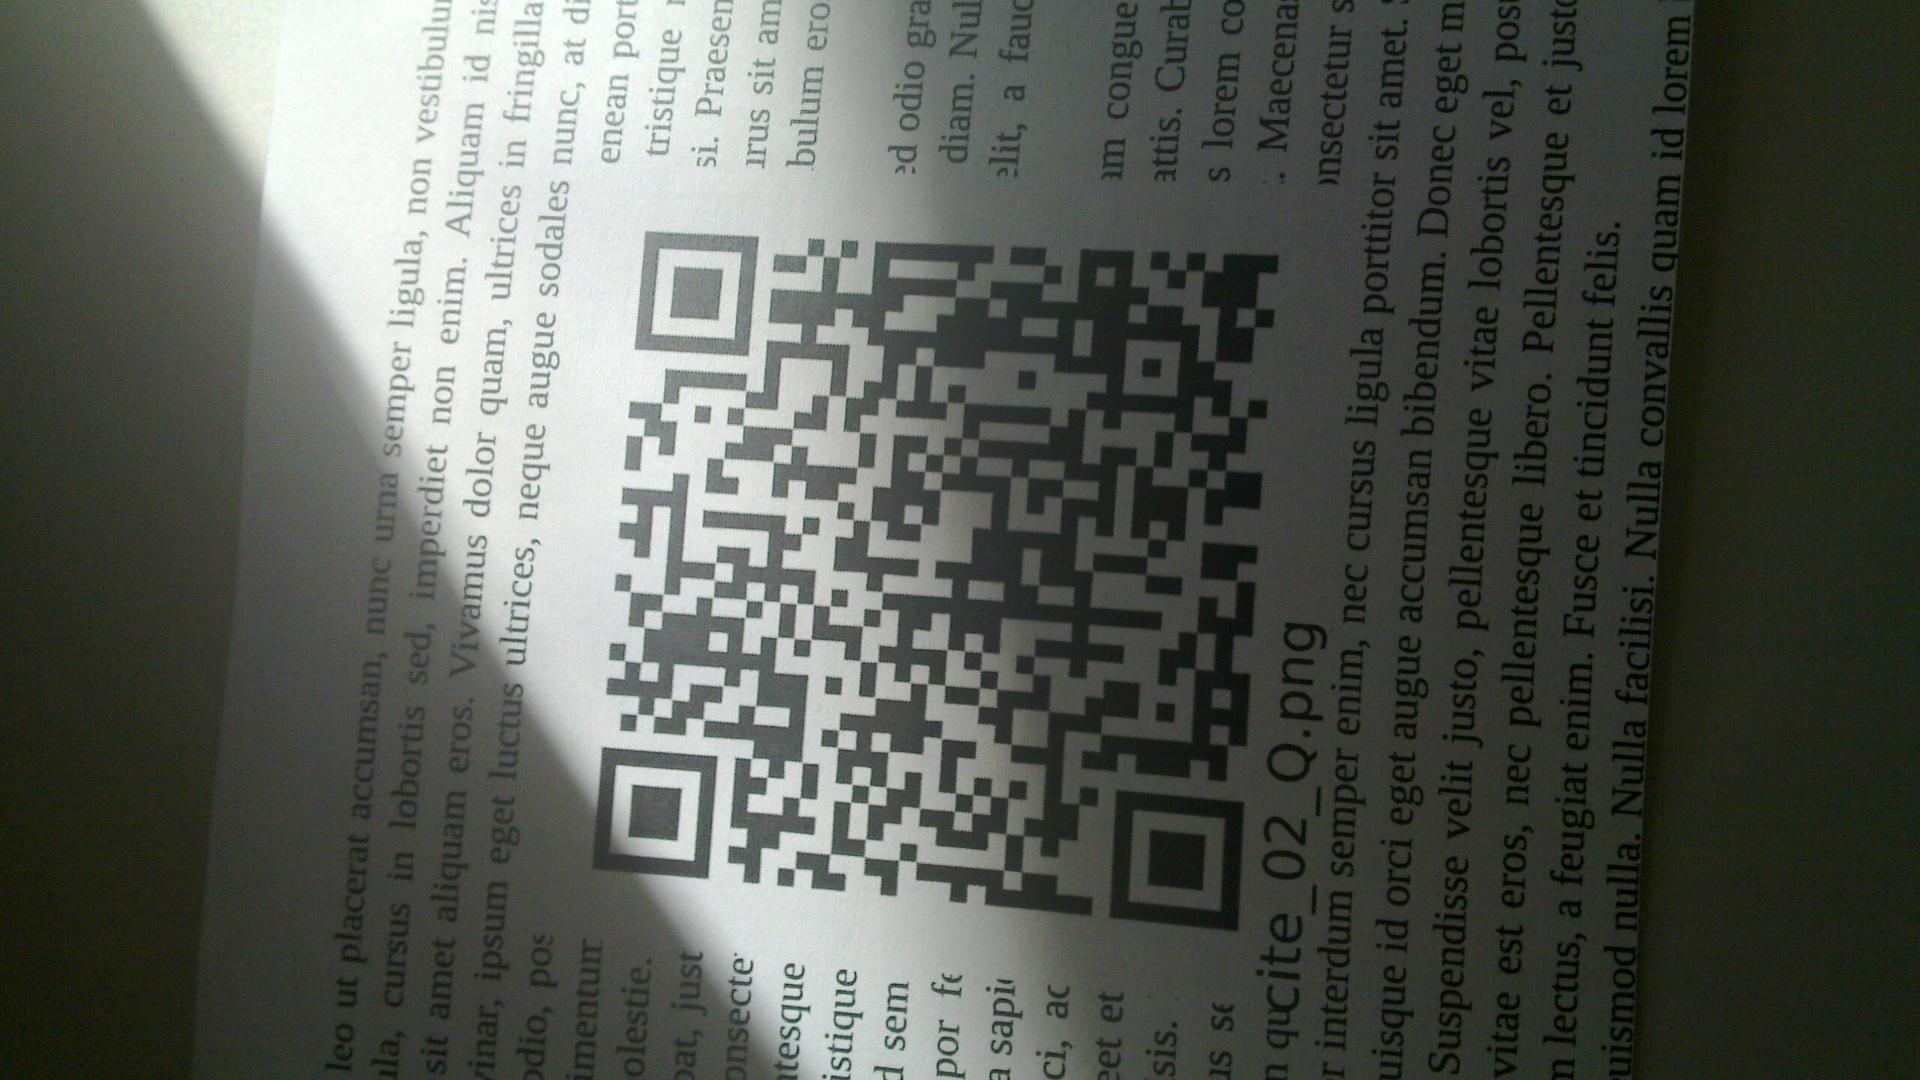Finder pattern: (1104, 775, 1249, 938), (585, 742, 721, 885), (628, 222, 760, 364)
